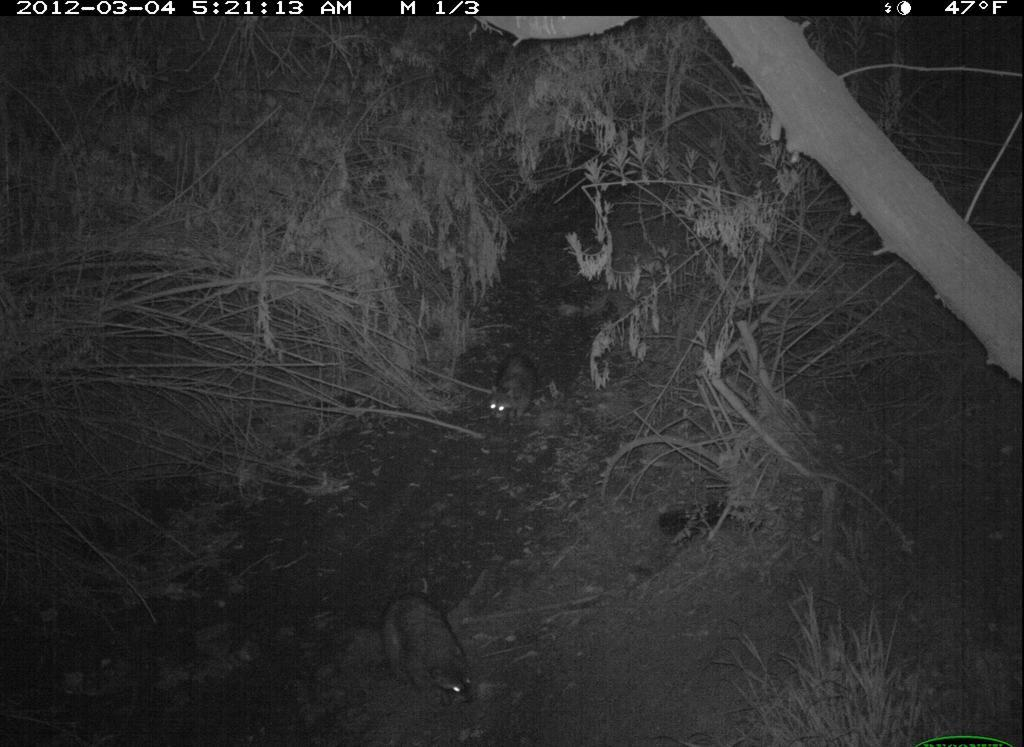raccoon: (376, 585, 484, 716), (473, 345, 552, 438)
